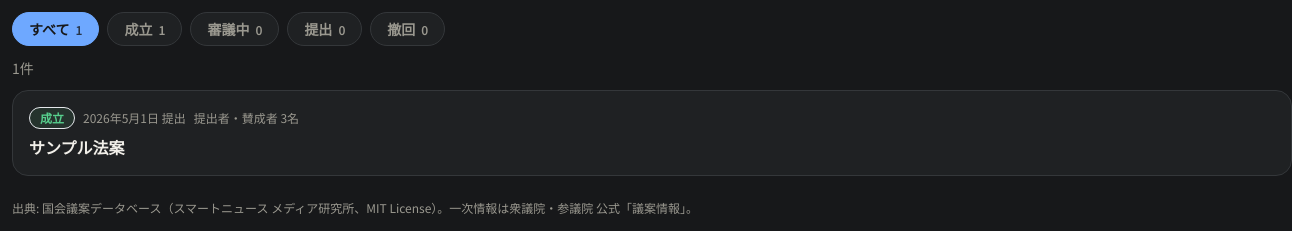
Test case: BillsFeed › 該当0件のステータスでは空メッセージを出す
This screenshot has width=1292, height=231.
What coordinates should you click on to do the following:
click the button "提出0"
I would click on:
 (325, 29)
Its box is [287, 12, 362, 46].
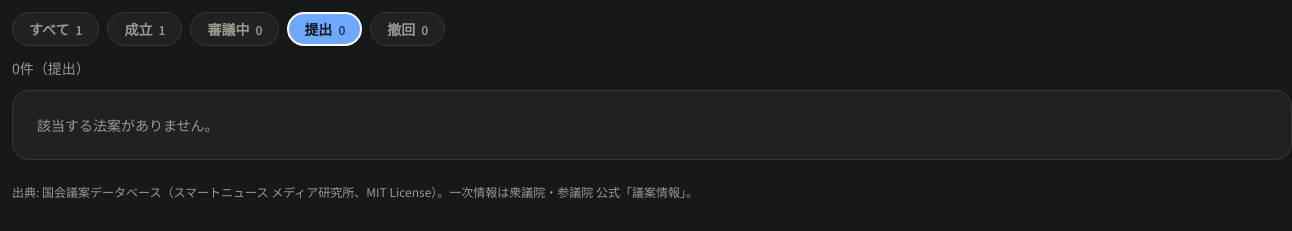
Expected: the text "該当する法案がありません。" is shown, [12, 90, 1291, 160]
